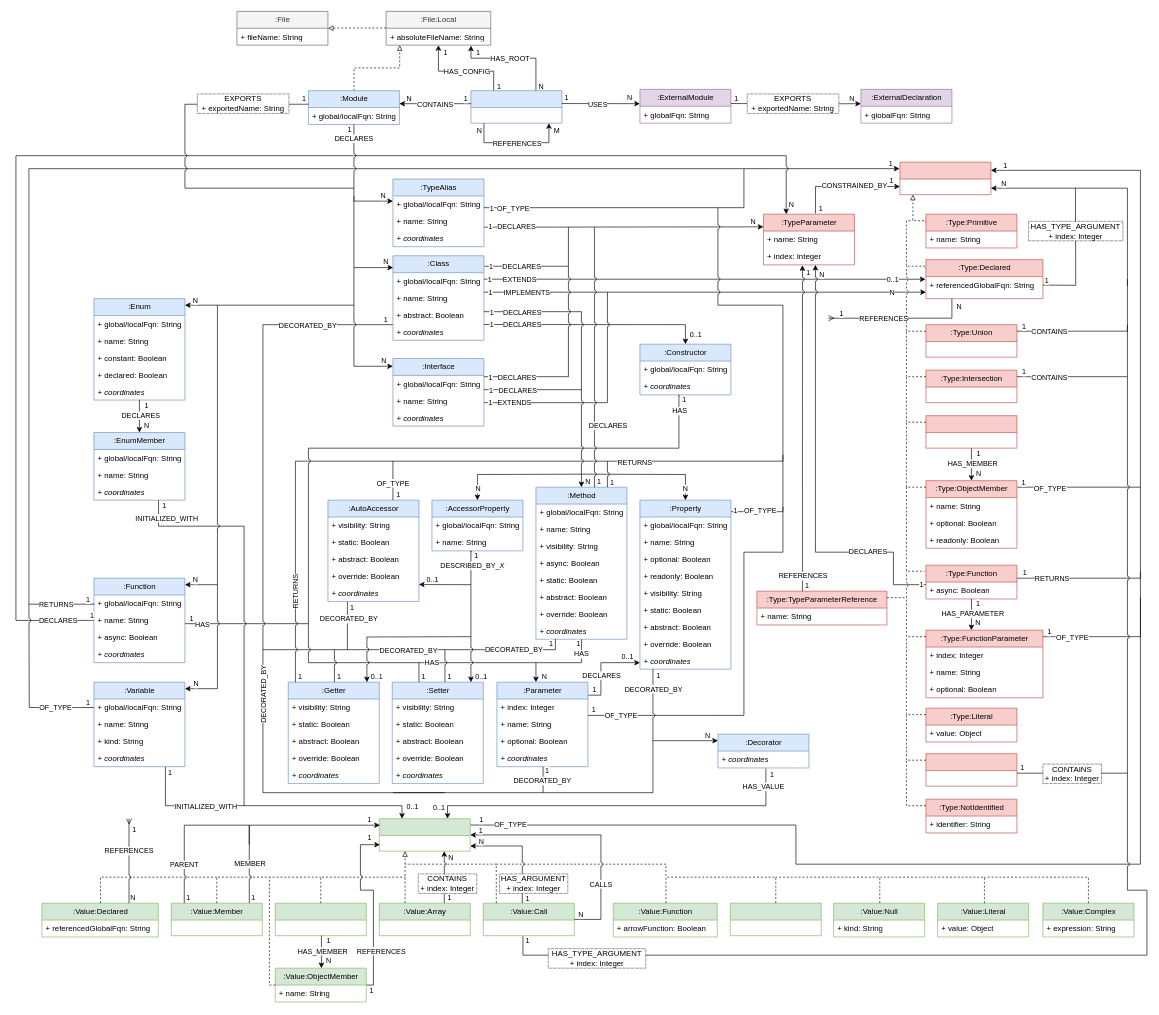
The diagram is 1159 pixels wide and 1015 high, and some of its shapes have lost their labels. The shapes that lost their labels are listed below. From the top down, each one's centre as x and y in pixels, then its label:
(x=516, y=106): :Project
(x=945, y=178): :Type
(x=971, y=431): :Type:Object
(x=971, y=769): :Type:Tuple
(x=424, y=834): :Value
(x=320, y=919): :Value:Object
(x=775, y=919): :Value:Class
